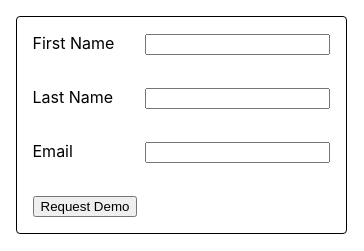
Scenario: RequestForm › renders an error message for each of the inputs if none of them are filled out and the user submits the form
Click the button "Request Demo" at (85, 206), box [32, 196, 137, 217]
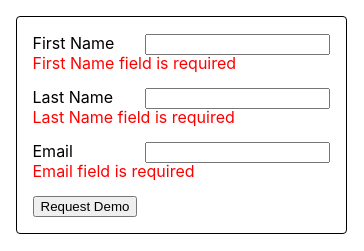
Expected: the text "First Name field is required" is shown, [32, 53, 236, 73]
Expected: the text "Last Name field is required" is shown, [32, 107, 235, 127]
Expected: the text "Email field is required" is shown, [32, 161, 195, 181]
